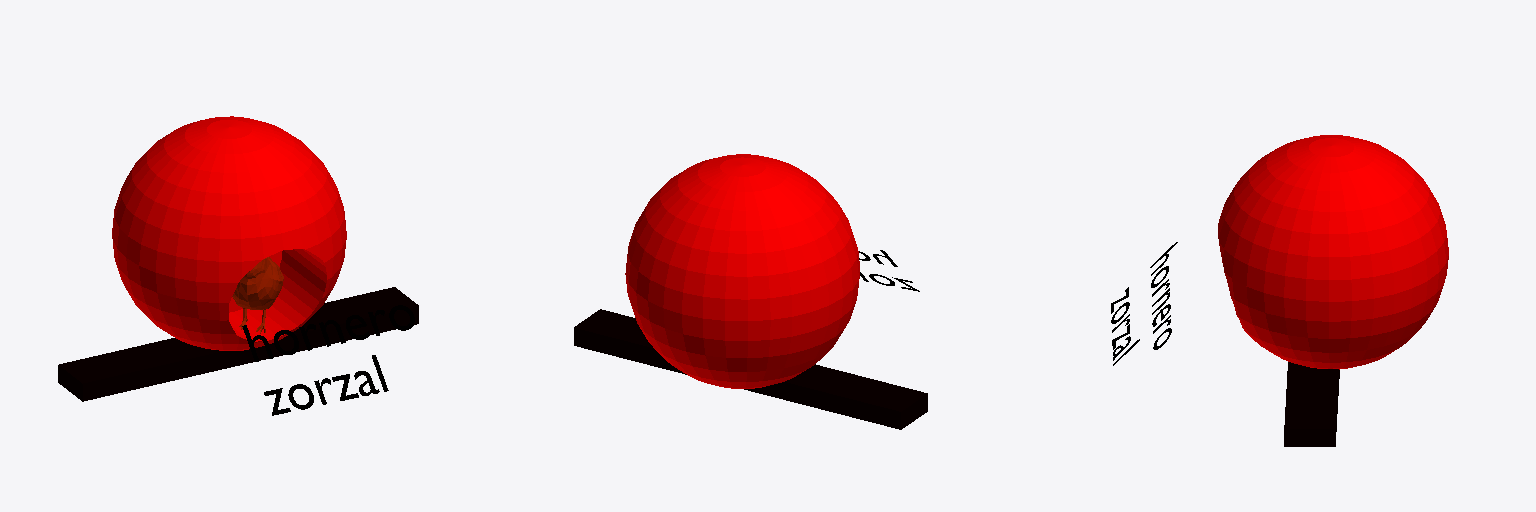
File: hornero.obj
3 views of the same model, side by side, from view 1: azimuth 30°, elevation 25°; view 2: azimuth 150°, elevation 25°; view 3: azimuth 270°, elevation 25° (orthographic).
Parts seen in each view (by area): view 1: Sphere, Cube_Cube.001, Text_hornero, CactusWren_Mesh; view 2: Sphere, Cube_Cube.001; view 3: Sphere, Cube_Cube.001, Text_hornero.
Boxes of the visible parts, <box> form: Sphere: <box>112,116,346,350</box>; Cube_Cube.001: <box>58,287,418,401</box>; Text_hornero: <box>242,305,414,415</box>; CactusWren_Mesh: <box>232,257,283,333</box>; Sphere: <box>625,154,859,388</box>; Cube_Cube.001: <box>574,309,927,429</box>; Sphere: <box>1218,135,1448,369</box>; Cube_Cube.001: <box>1284,362,1339,446</box>; Text_hornero: <box>1111,242,1177,365</box>.
Bounding box in the file's own units: 6.82 × 4.3 × 6.